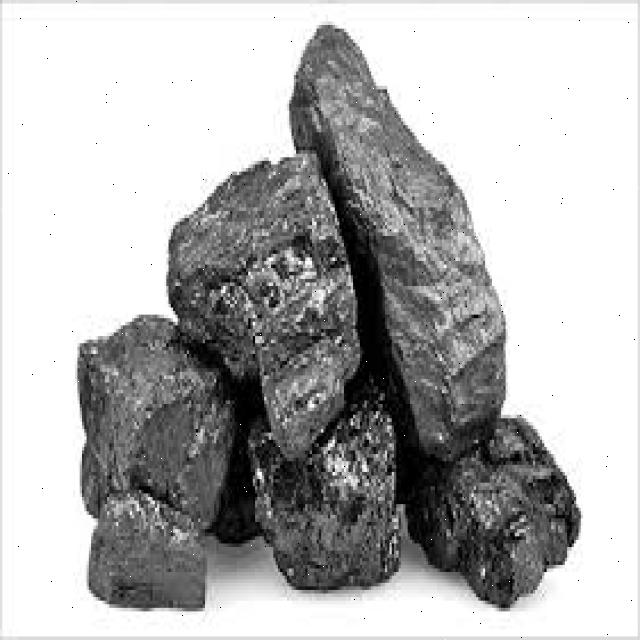Sedimentary: (71, 18, 601, 629)
